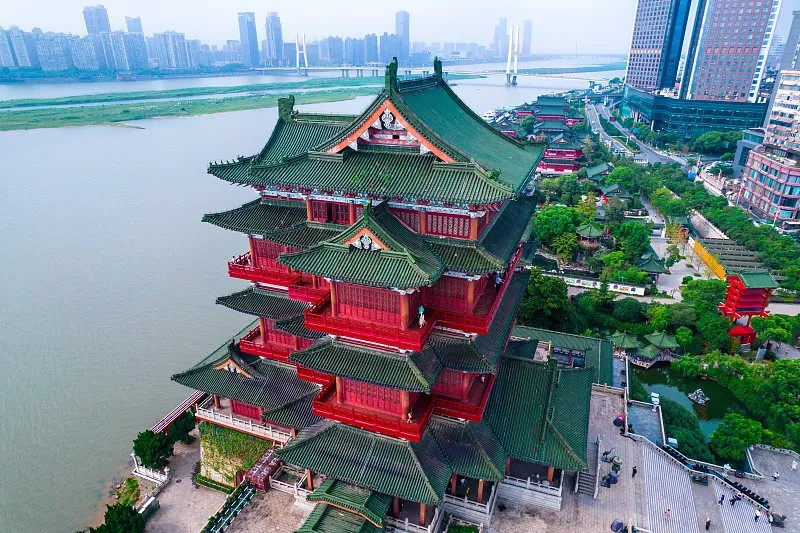Teng: (171, 58, 594, 519)
